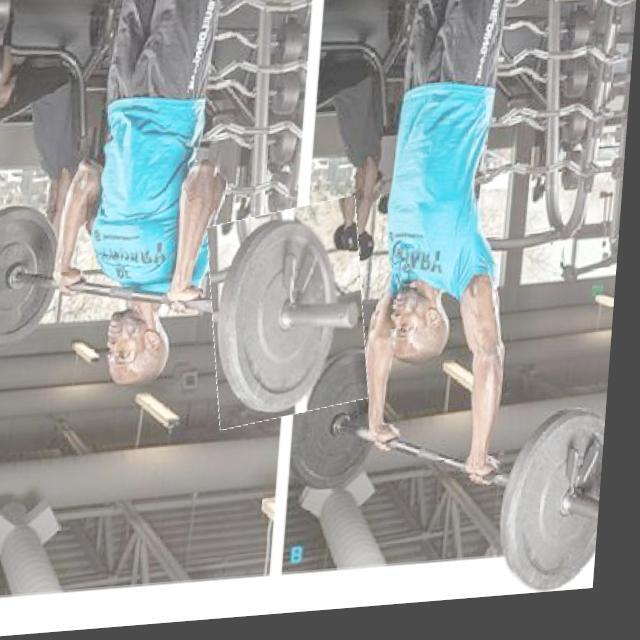barbell: (207, 206, 381, 433)
